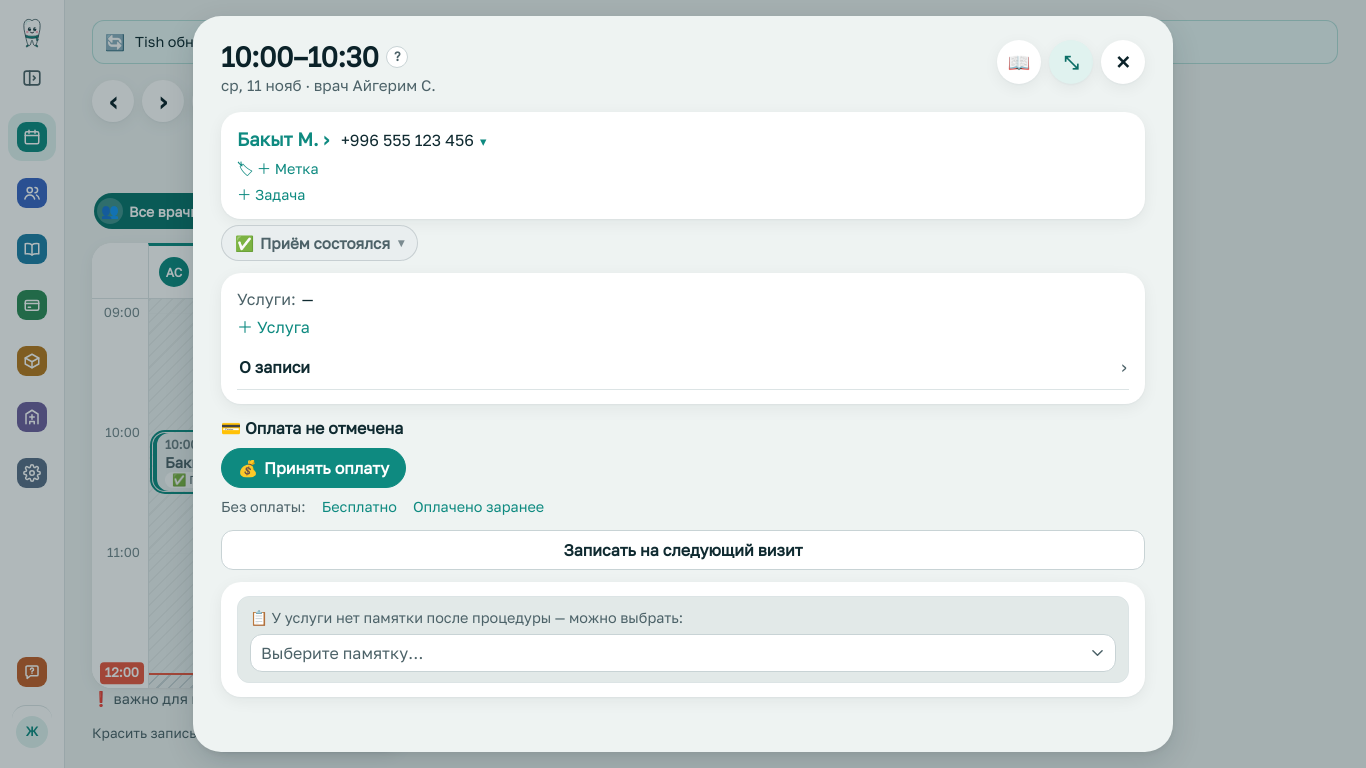
Scenario: оплата приёма: аванса нет — кнопки «С аванса» нет
This screenshot has width=1366, height=768.
Earlier steps of the test are not shown.
Click the button "💰 Принять оплату": (314, 468) top-left (221, 448), bottom-right (406, 488)
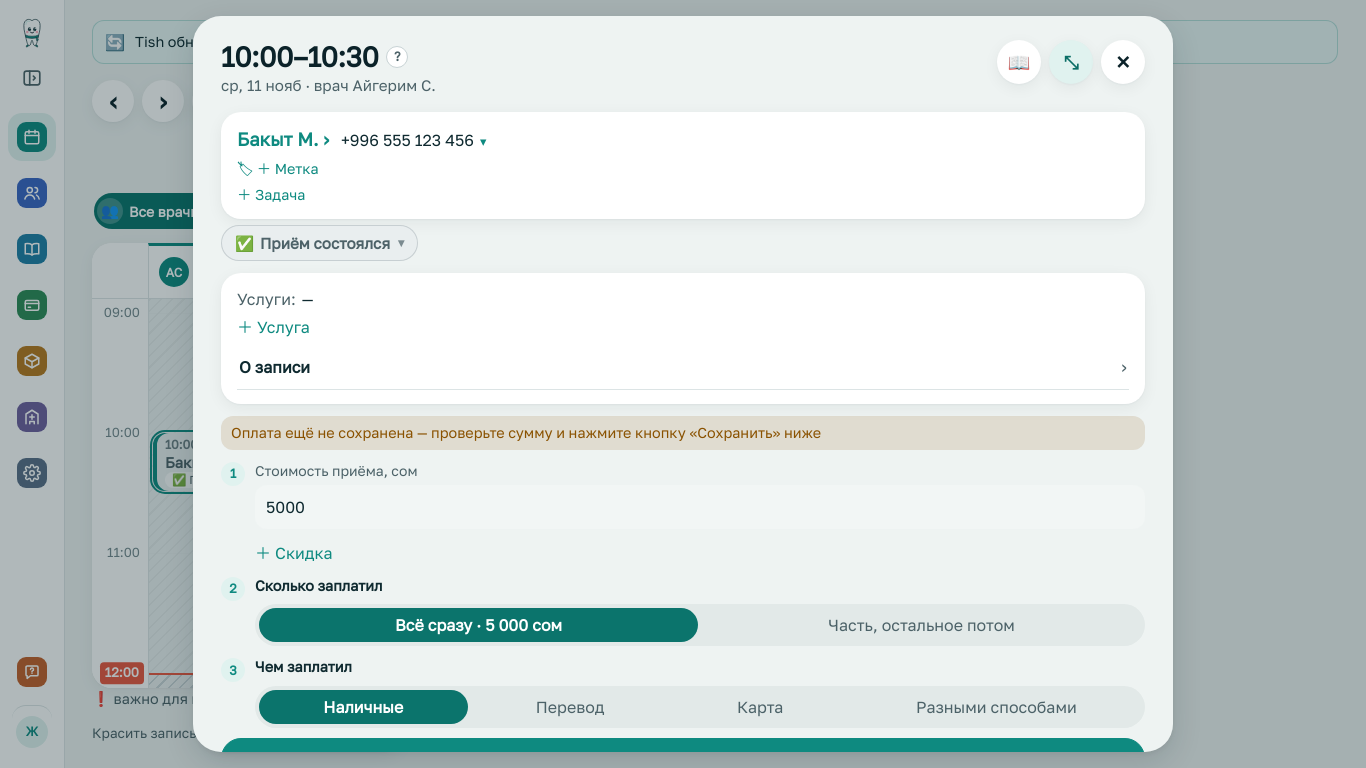
Expected: the button "Наличные" is shown, top-left (259, 690), bottom-right (468, 724)
